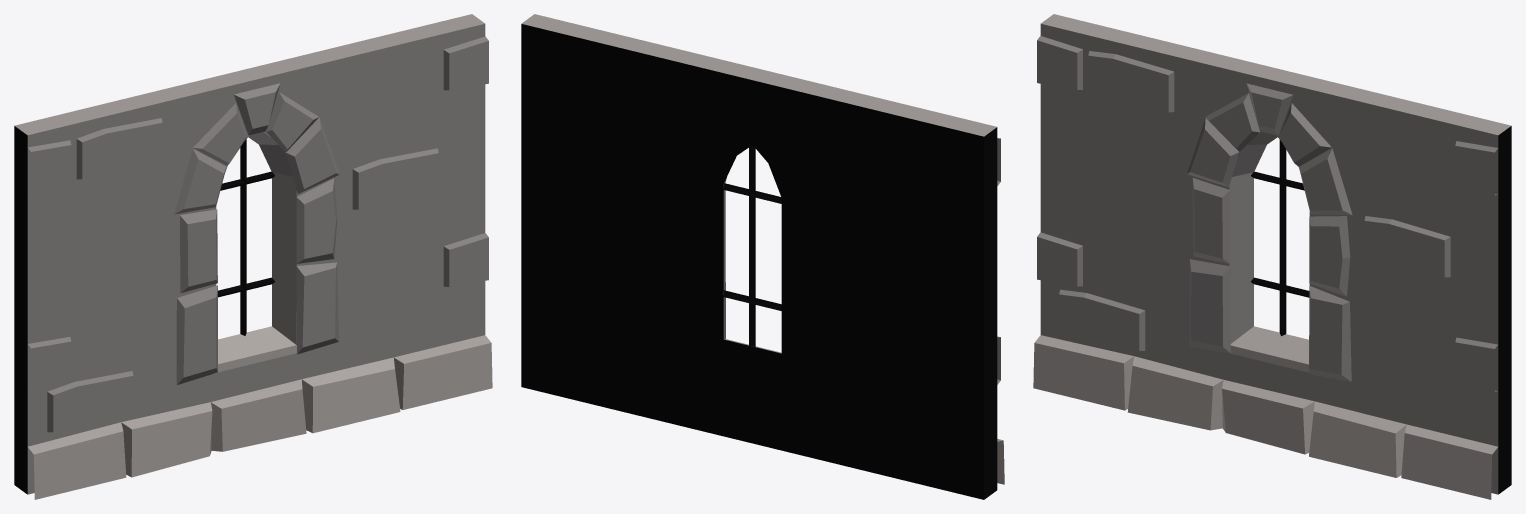
Rendered from dungeon-wall-window-stone.glb.
3 views of the same model, side by side, from view 1: azimuth 30°, elevation 25°; view 2: azimuth 150°, elevation 25°; view 3: azimuth 330°, elevation 25° (orthographic).
Visible parts, largest first — view 1: dungeon-wall-window-stone; view 2: dungeon-wall-window-stone; view 3: dungeon-wall-window-stone.
Part boxes in pixels (x1,y1,x2,y2): dungeon-wall-window-stone: (14,14,492,499); dungeon-wall-window-stone: (521,14,1004,499); dungeon-wall-window-stone: (1033,14,1511,499).
Size of the model in its own units: 4 by 3 by 0.3283.
1 material, 1 textured.
